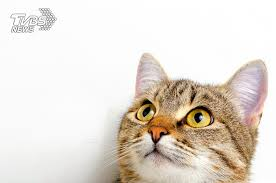cat: (106, 51, 264, 183)
